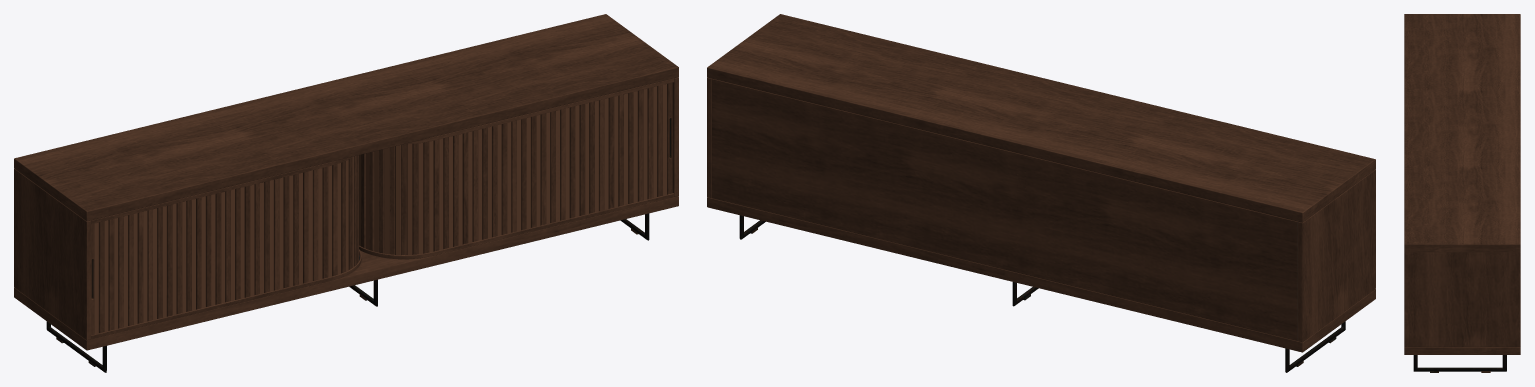
File: tv-unit-slatted.glb
The picture shows the model from 3 angles, left to right: view 1: azimuth 30°, elevation 25°; view 2: azimuth 150°, elevation 25°; view 3: azimuth 270°, elevation 25°; orthographic projection. The views are drawn at different scales.
Parts seen in each view (by area): view 1: modern_wooden_cabinet_body, modern_wooden_cabinet_door_l; view 2: modern_wooden_cabinet_body; view 3: modern_wooden_cabinet_body.
Part boxes in pixels (<box>): modern_wooden_cabinet_body: <box>14,14,678,372</box>; modern_wooden_cabinet_door_l: <box>91,82,672,334</box>; modern_wooden_cabinet_body: <box>707,14,1375,372</box>; modern_wooden_cabinet_body: <box>1404,14,1520,372</box>.
Size of the model in its own units: 2.44 by 0.6802 by 0.5199.
Materials: 2 (2 with a texture image).
